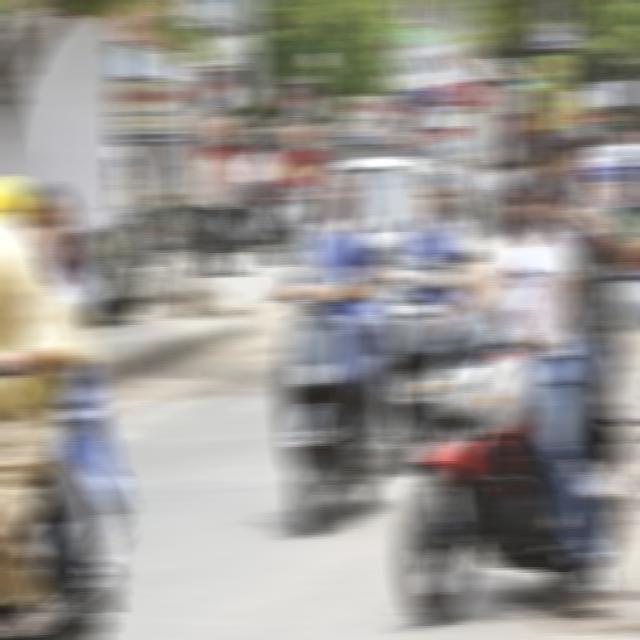Without Helmet: (504, 152, 555, 235), (316, 146, 363, 214), (415, 156, 456, 217)
